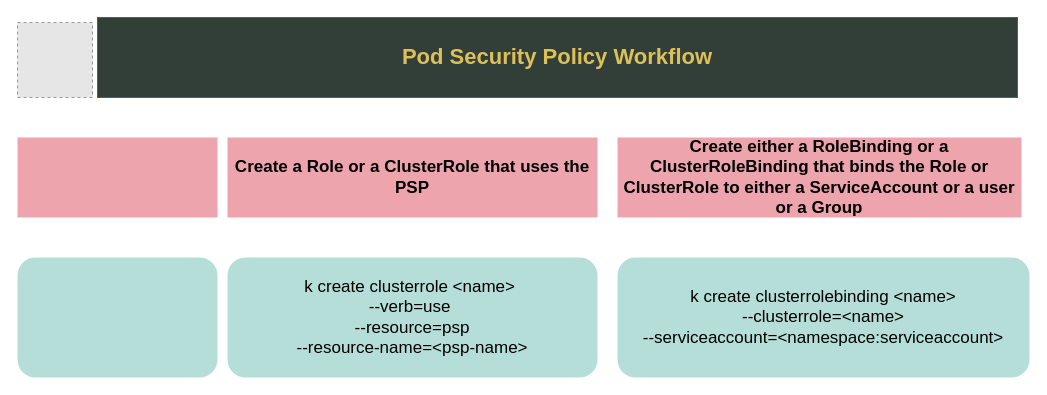
Some shapes in this 1047 by 395 pixel diagram are drawn without their labels. Grey dashed boxes stand in for pictures. The centre of each missing label's shape, as x and y in pixels:
"Create a PSP" belongs at point (117, 177).
"k apply -f psp.yml" belongs at point (117, 317).
